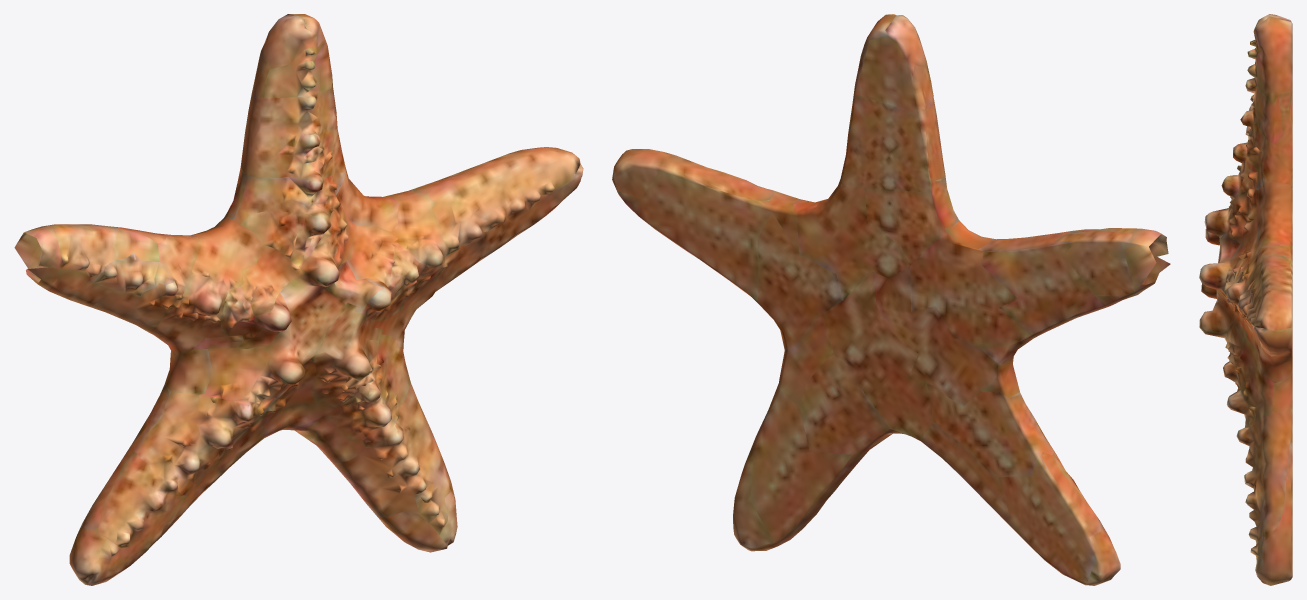
3 views of the same model, side by side, from view 1: azimuth 30°, elevation 25°; view 2: azimuth 150°, elevation 25°; view 3: azimuth 270°, elevation 25° (orthographic). The views are drawn at different scales.
Bounding box in the file's own units: 0.9131 × 0.8948 × 0.1493.
1 material, 1 textured.
